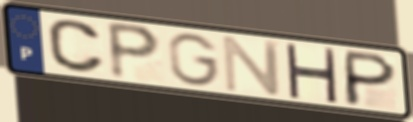C: (45, 18, 108, 75)
G: (165, 31, 223, 89)
H: (282, 41, 340, 105)
N: (220, 34, 284, 97)
P: (104, 19, 164, 83), (341, 48, 400, 109)
